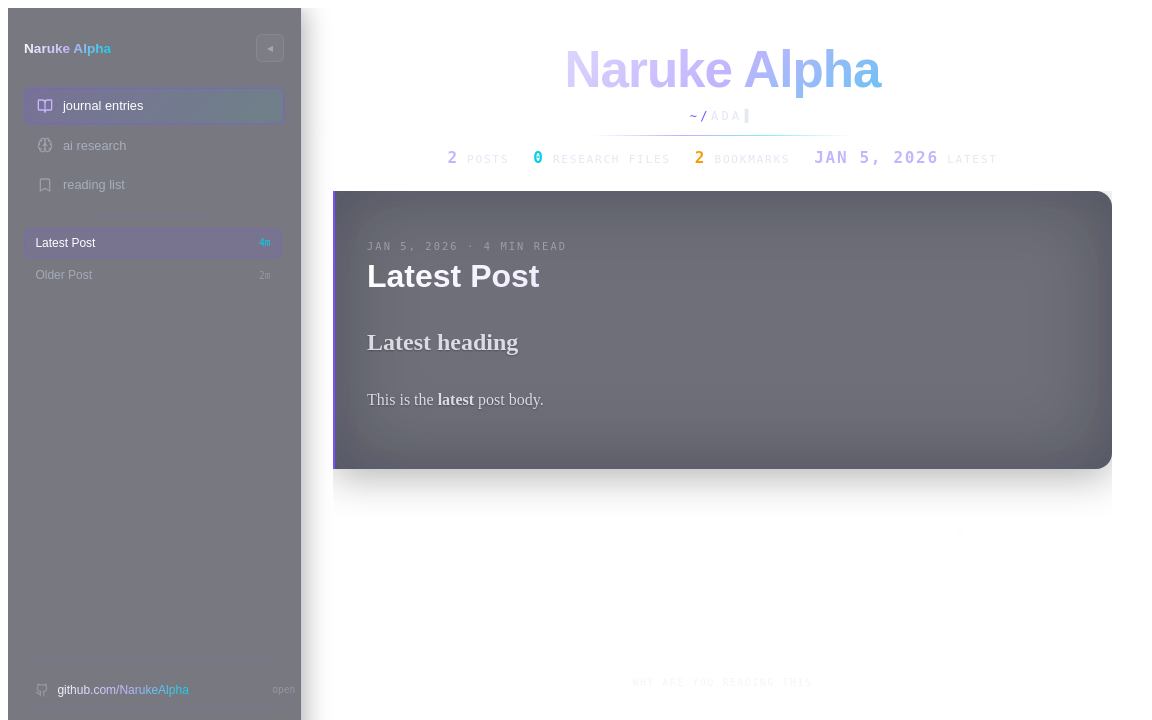
Test: public site renders bookmark cards and optional thumbnails
The image size is (1152, 720).
Click the button "reading list". click: [94, 185]
box: [24, 167, 284, 203]
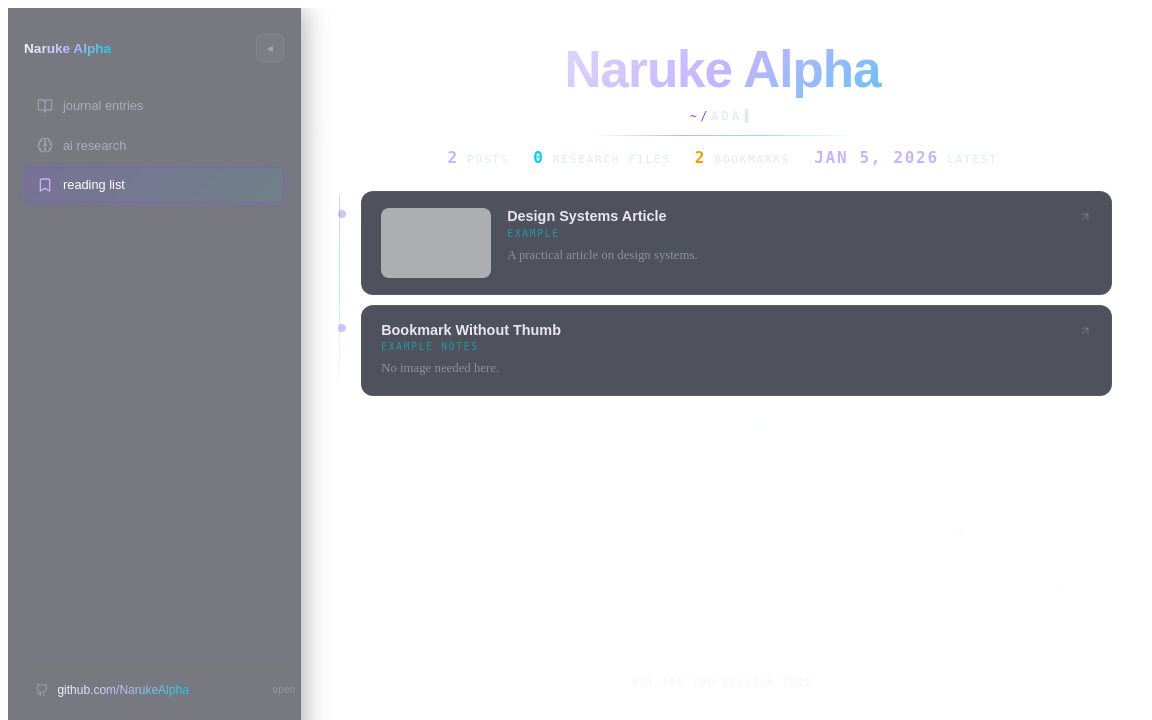
Expected: the text "A practical article on design systems." is shown, [507, 248, 698, 262]
Expected: the text "Example Notes" is shown, [381, 341, 479, 352]
